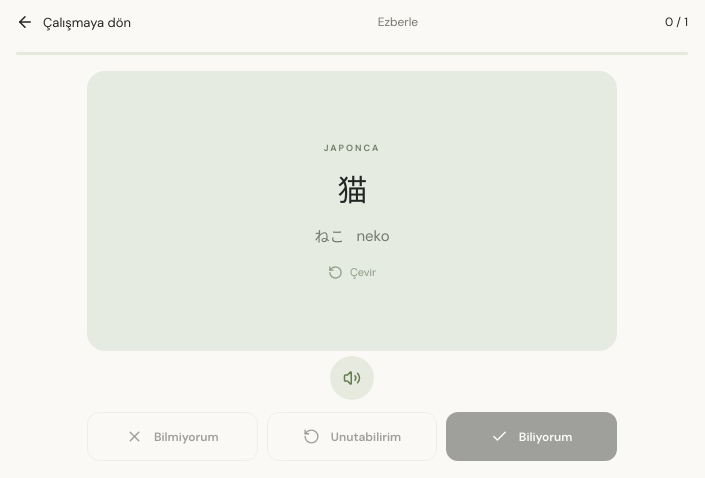
it: Japanese study interface › shows vocabulary readings and examples on the revealed card
Expected: the text "neko" is shown, 356,225 -> 390,249
Expected: the text "猫がいます。" is not shown
Click the button with aria-label "Türkçe anlamı göster".
click(352, 211)  # box 87,71 -> 617,351
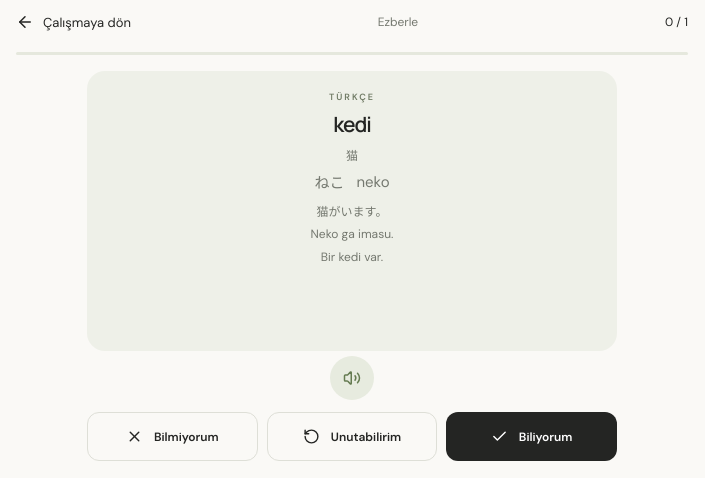
Expected: the text "猫がいます。" is shown, 311,202 -> 393,222
Expected: the text "Neko ga imasu." is shown, 311,225 -> 393,244
Expected: the text "Bir kedi var." is shown, 321,248 -> 383,264
